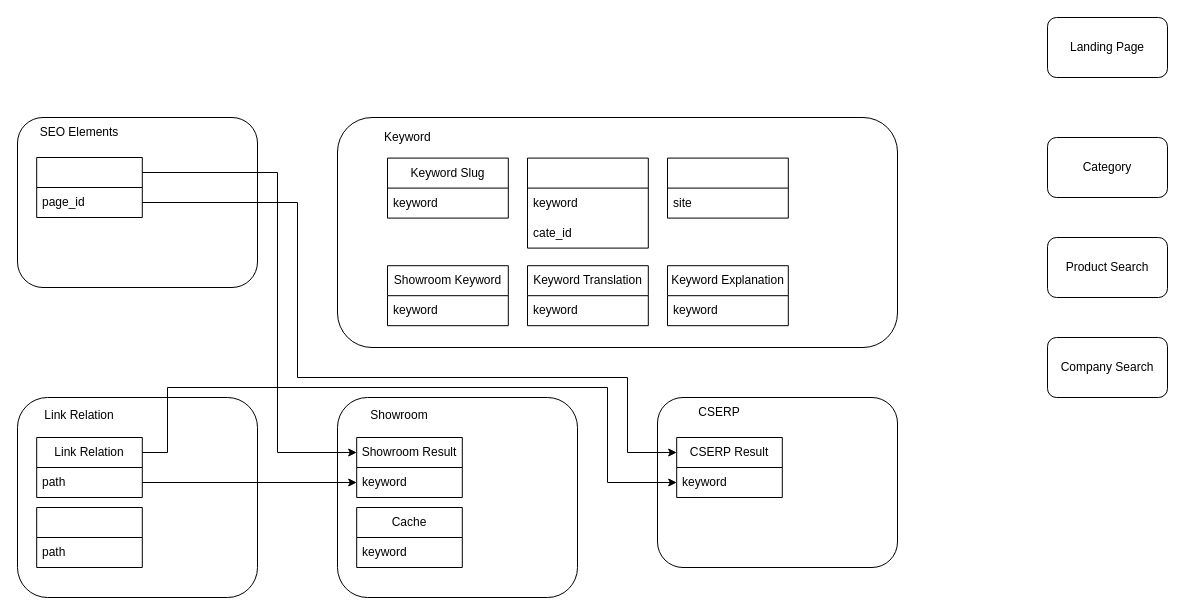
Some shapes in this 1185 by 615 pixel diagram are drawn without their labels. The shapes that lost their labels are listed below. From the top down, each one's box as (x1, y1, x2, y2) in pixels, then its label:
(36, 156, 142, 218): Page Elements
(526, 157, 648, 248): Keyword CPV
(666, 157, 788, 218): TOP Keyword
(36, 506, 142, 568): Bottom Link Relation
